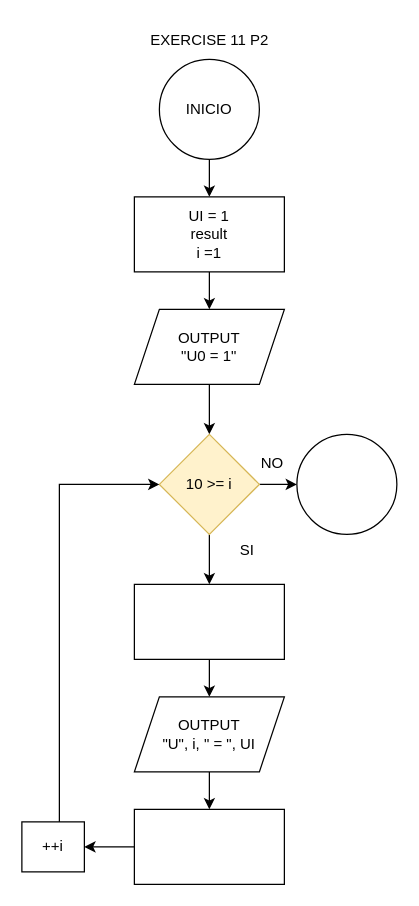
This 419x906 diagram has some shape labels left out. Here are the shapes that lost their labels. From the top down, the centre of each, then its label:
the point at 346,483: FIN
the point at 208,621: result = UI / (i + 1)
the point at 208,846: UI = result
